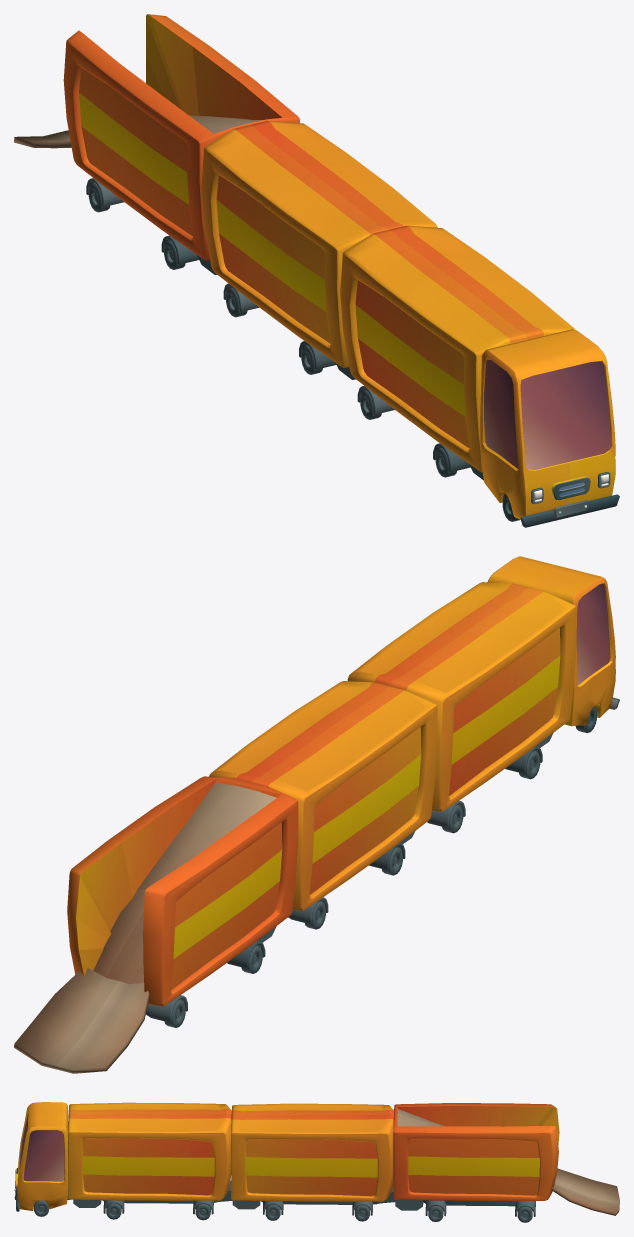
Rendered from SAND_RAMP.fbx.
The picture shows the model from 3 angles, top to bottom: view 1: azimuth 30°, elevation 25°; view 2: azimuth 150°, elevation 25°; view 3: azimuth 270°, elevation 25°; orthographic projection. The views are drawn at different scales.
Visible parts, largest first — view 1: pSphere2_lambert1_0.007, polySurface5, pCylinder1_lambert1_0.006, polySurface5.001; view 2: pSphere2_lambert1_0.007, polySurface5, polySurface5.001, pCylinder1_lambert1_0.006; view 3: pSphere2_lambert1_0.007, polySurface5, pCylinder1_lambert1_0.006, polySurface5.001.
Part boxes in pixels (x1,y1,x2,y2): pSphere2_lambert1_0.007: [201, 120, 619, 527]; polySurface5: [63, 14, 299, 260]; pCylinder1_lambert1_0.006: [86, 178, 519, 521]; polySurface5.001: [14, 130, 71, 148]; pSphere2_lambert1_0.007: [209, 556, 619, 910]; polySurface5: [67, 776, 298, 1005]; polySurface5.001: [14, 968, 149, 1073]; pCylinder1_lambert1_0.006: [146, 706, 596, 1027]; pSphere2_lambert1_0.007: [14, 1102, 393, 1211]; polySurface5: [393, 1103, 559, 1200]; pCylinder1_lambert1_0.006: [34, 1180, 535, 1222]; polySurface5.001: [552, 1168, 619, 1215].
Size of the model in its own units: 327 by 441 by 2596.
Materials: 1 (1 with a texture image).
